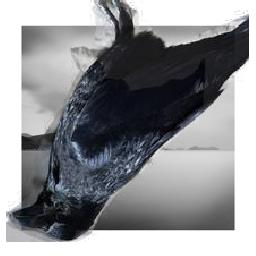Crow: (7, 0, 250, 242)
